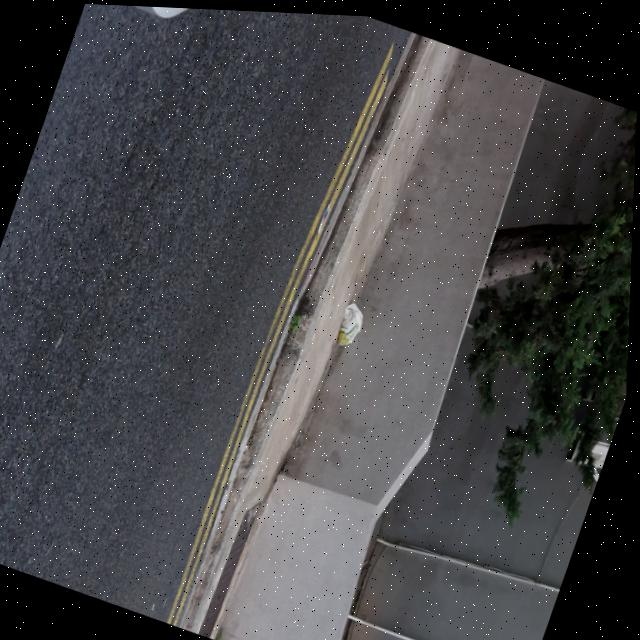Other: (325, 285, 378, 361)
